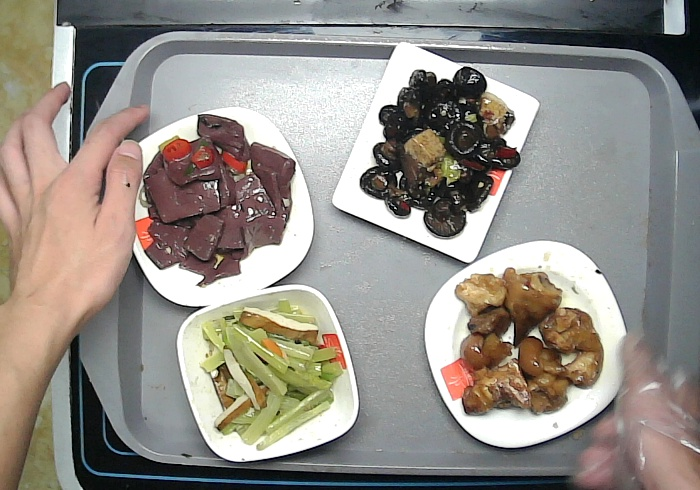SHKJ-Bai_Se_Cai_Die: (107, 102, 321, 311)
SHKJ-Bai_Se_Si_Fang_Cai_Die: (418, 235, 633, 451)
SHKJ-Bai_Se_Xiao_Fang_Die: (170, 280, 365, 464)
SHKJ-Si_Fang_Min: (330, 38, 543, 267)
